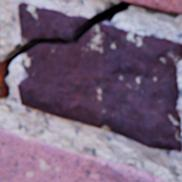brick: (0, 127, 171, 181), (124, 0, 181, 12), (0, 54, 5, 95)
broken_brick: (19, 22, 181, 150), (20, 2, 90, 43)
crack: (0, 0, 180, 97)
